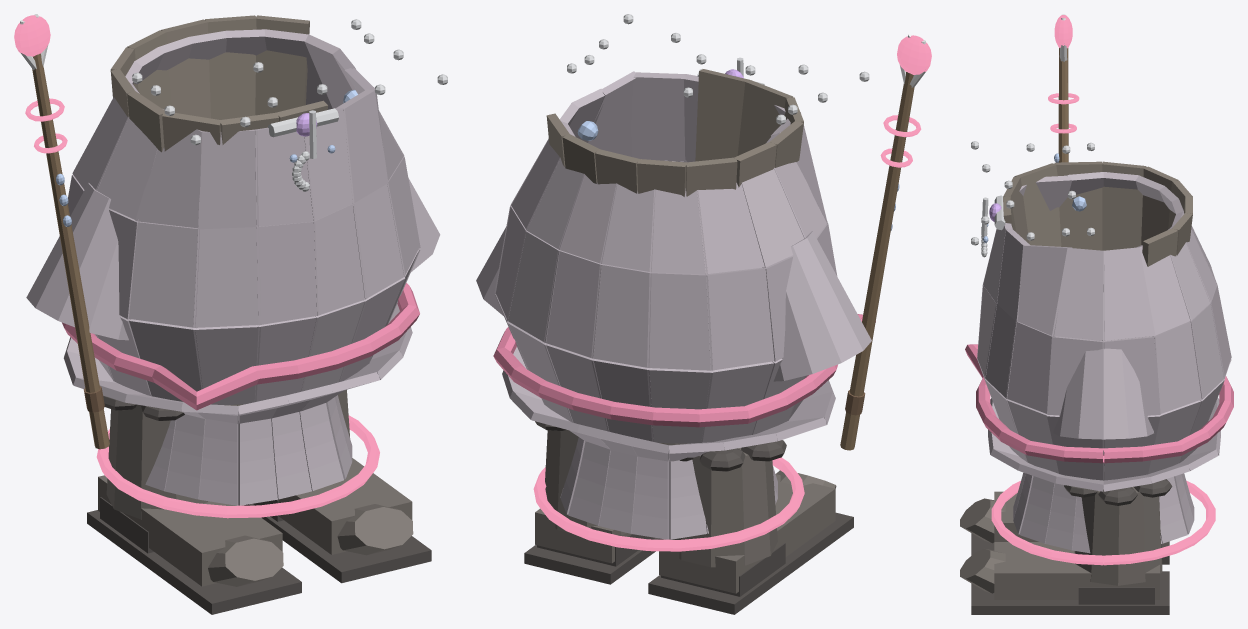
The model's file is cleric_kit.glb.
3 renders of one model, left to right at view 1: azimuth 30°, elevation 25°; view 2: azimuth 150°, elevation 25°; view 3: azimuth 270°, elevation 25°, orthographic. The views are drawn at different scales.
Parts seen in each view (by area): view 1: Armour_Robe_cloth_cleric, Acc_Cloak_cloth_cleric, Acc_BootR_cloth_cleric, Armour_SleeveR_cloth_cleric, Armour_Robe_trim_cleric, Acc_BootL_cloth_cleric, Acc_BootR_dark_cleric, Weapon_haft_cleric, Armour_Robe_glow_cleric, Acc_BootL_dark_cleric, Acc_Amulet_metal_cleric, Weapon_glow_cleric (+2 smaller); view 2: Armour_Robe_cloth_cleric, Acc_Cloak_cloth_cleric, Acc_BootR_cloth_cleric, Armour_SleeveR_cloth_cleric, Armour_Robe_trim_cleric, Acc_BootR_dark_cleric, Weapon_haft_cleric, Armour_Robe_glow_cleric, Acc_BootL_cloth_cleric, Acc_BootL_dark_cleric, Weapon_glow_cleric, Acc_Amulet_metal_cleric (+1 smaller); view 3: Armour_Robe_cloth_cleric, Acc_Cloak_cloth_cleric, Acc_BootL_cloth_cleric, Armour_SleeveL_cloth_cleric, Acc_BootL_dark_cleric, Armour_Robe_trim_cleric, Armour_Robe_glow_cleric, Acc_BootR_cloth_cleric, Acc_Amulet_metal_cleric, Weapon_haft_cleric, Weapon_glow_cleric, Acc_BootR_dark_cleric.
Part boxes in pixels (bbox=[...]): Armour_Robe_cloth_cleric: bbox=[63, 29, 420, 505]; Acc_Cloak_cloth_cleric: bbox=[110, 15, 328, 405]; Acc_BootR_cloth_cleric: bbox=[98, 404, 283, 586]; Armour_SleeveR_cloth_cleric: bbox=[26, 183, 128, 340]; Armour_Robe_trim_cleric: bbox=[62, 283, 419, 410]; Acc_BootL_cloth_cleric: bbox=[278, 389, 413, 555]; Acc_BootR_dark_cleric: bbox=[87, 395, 301, 614]; Weapon_haft_cleric: bbox=[32, 53, 109, 449]; Armour_Robe_glow_cleric: bbox=[96, 415, 379, 518]; Acc_BootL_dark_cleric: bbox=[244, 499, 431, 583]; Acc_Amulet_metal_cleric: bbox=[132, 19, 447, 191]; Weapon_glow_cleric: bbox=[14, 15, 67, 153]; Armour_Robe_cloth_cleric: bbox=[494, 71, 837, 539]; Acc_Cloak_cloth_cleric: bbox=[546, 69, 803, 443]; Acc_BootR_cloth_cleric: bbox=[659, 447, 836, 593]; Armour_SleeveR_cloth_cleric: bbox=[773, 231, 871, 381]; Armour_Robe_trim_cleric: bbox=[493, 314, 875, 427]; Acc_BootR_dark_cleric: bbox=[648, 440, 853, 614]; Weapon_haft_cleric: bbox=[840, 72, 914, 450]; Armour_Robe_glow_cleric: bbox=[533, 457, 804, 551]; Acc_BootL_cloth_cleric: bbox=[535, 430, 630, 563]; Acc_BootL_dark_cleric: bbox=[524, 421, 663, 584]; Weapon_glow_cleric: bbox=[880, 35, 931, 167]; Acc_Amulet_metal_cleric: bbox=[567, 14, 869, 124]; Armour_Robe_cloth_cleric: bbox=[977, 172, 1231, 553]; Acc_Cloak_cloth_cleric: bbox=[1003, 161, 1192, 266]; Acc_BootL_cloth_cleric: bbox=[960, 487, 1162, 599]; Armour_SleeveL_cloth_cleric: bbox=[1053, 339, 1153, 439]; Acc_BootL_dark_cleric: bbox=[971, 479, 1172, 614]; Armour_Robe_trim_cleric: bbox=[965, 344, 1233, 463]; Armour_Robe_glow_cleric: bbox=[991, 480, 1215, 565]; Acc_BootR_cloth_cleric: bbox=[960, 491, 1038, 543]; Acc_Amulet_metal_cleric: bbox=[971, 141, 1094, 257]; Weapon_haft_cleric: bbox=[1058, 48, 1068, 162]; Weapon_glow_cleric: bbox=[1048, 15, 1079, 133]; Acc_BootR_dark_cleric: bbox=[971, 533, 1169, 564].
Bounding box in the file's own units: 1.17 × 1.48 × 0.7862.
